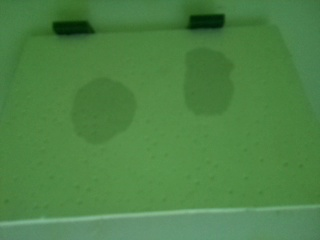Water_detected: (78, 77, 137, 136), (186, 55, 234, 110)
